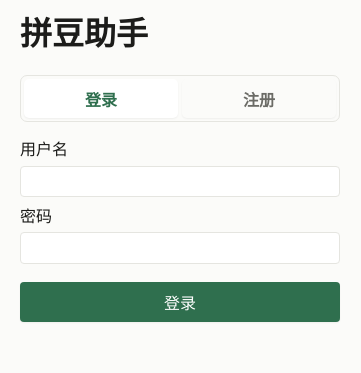
LoginForm › shows the server error detail
Type "amy" into the field labelled "用户名".
click(180, 182); type("amy")  # box [20,166,340,197]
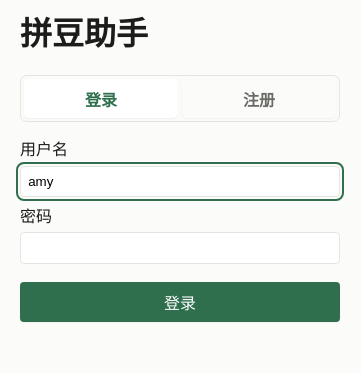
Type "wrongpass" into the password field labelled "密码".
click(180, 248); type("wrongpass")  # box [20,232,340,264]
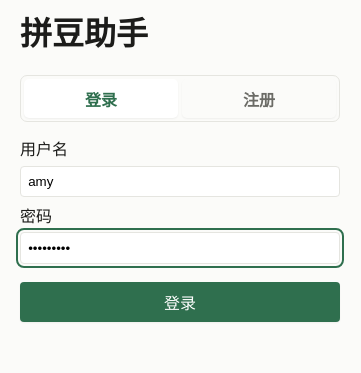
Click the button "登录".
click(180, 302)  # box [20,282,340,322]
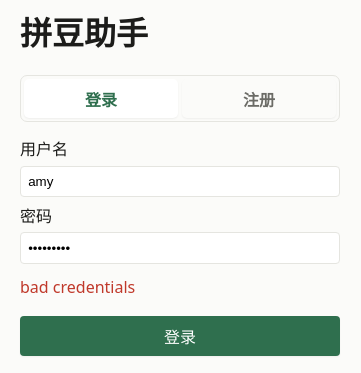
Result: the message reads "bad credentials" at [20,276,135,298]
